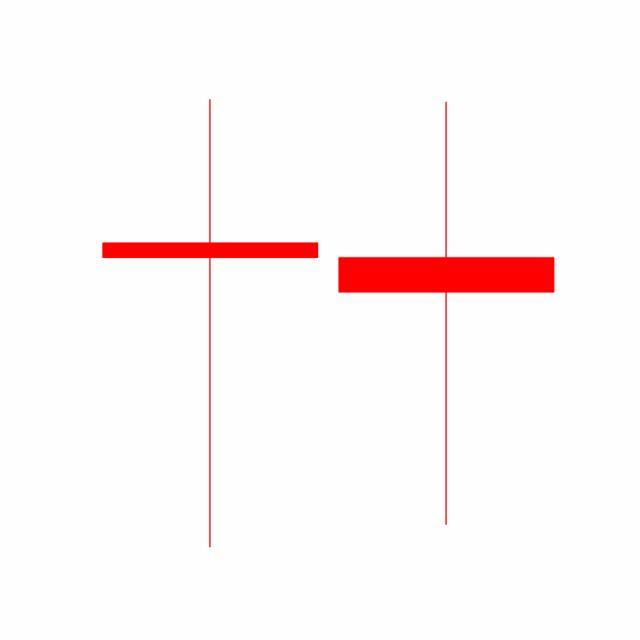Spinning Top: (328, 98, 566, 530)
